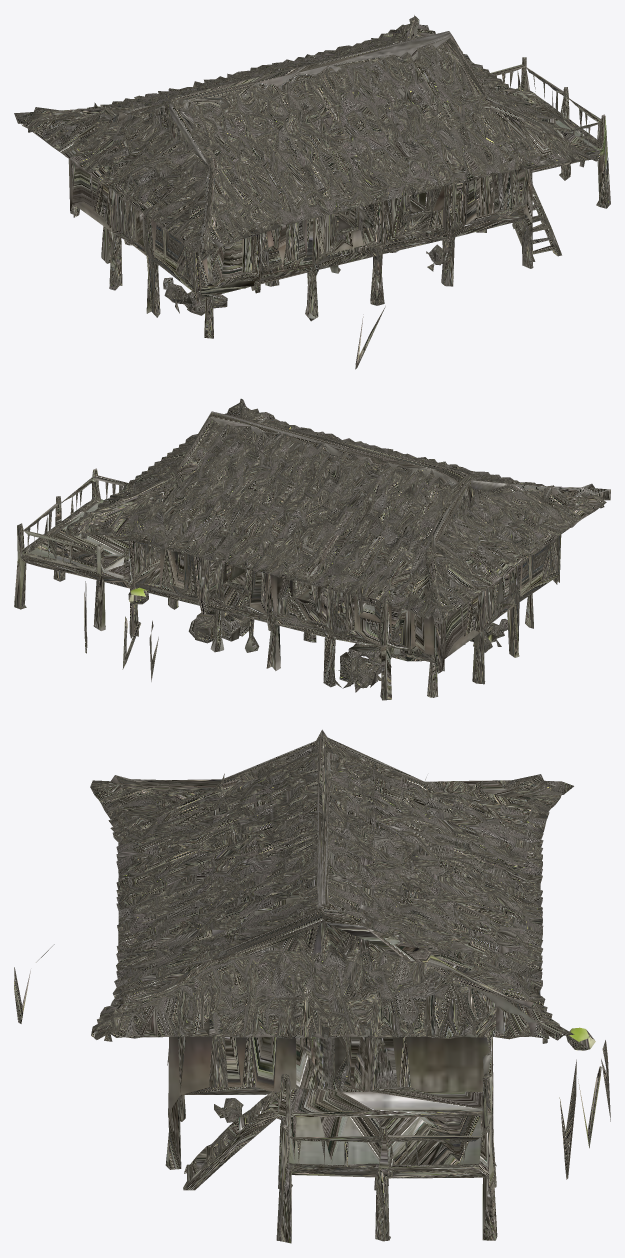
Rendered from bq_stilt.lod.glb.
3 renders of one model, top to bottom at view 1: azimuth 30°, elevation 25°; view 2: azimuth 150°, elevation 25°; view 3: azimuth 270°, elevation 25°, orthographic. The views are drawn at different scales.
Parts seen in each view (by area): view 1: mesh_node; view 2: mesh_node; view 3: mesh_node.
Boxes of the visible parts, <box> form: mesh_node: <box>14,15,610,369</box>; mesh_node: <box>14,398,610,700</box>; mesh_node: <box>14,729,610,1243</box>.
Bounding box in the file's own units: 1.9 × 0.7453 × 1.59.
Materials: 1 (1 with a texture image).
